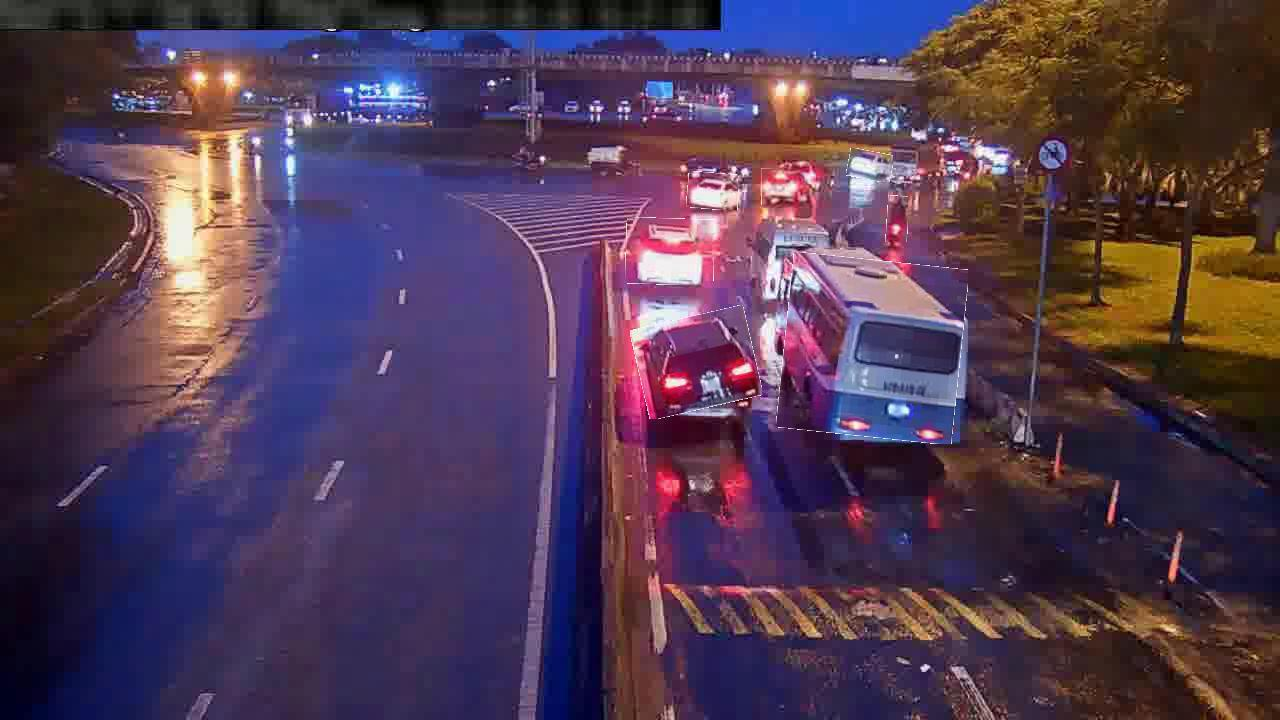14: (781, 257, 965, 441)
container: (635, 311, 759, 415), (626, 218, 715, 286), (687, 172, 739, 210), (761, 168, 810, 206), (847, 150, 893, 182)
motorbike: (886, 196, 909, 243)
